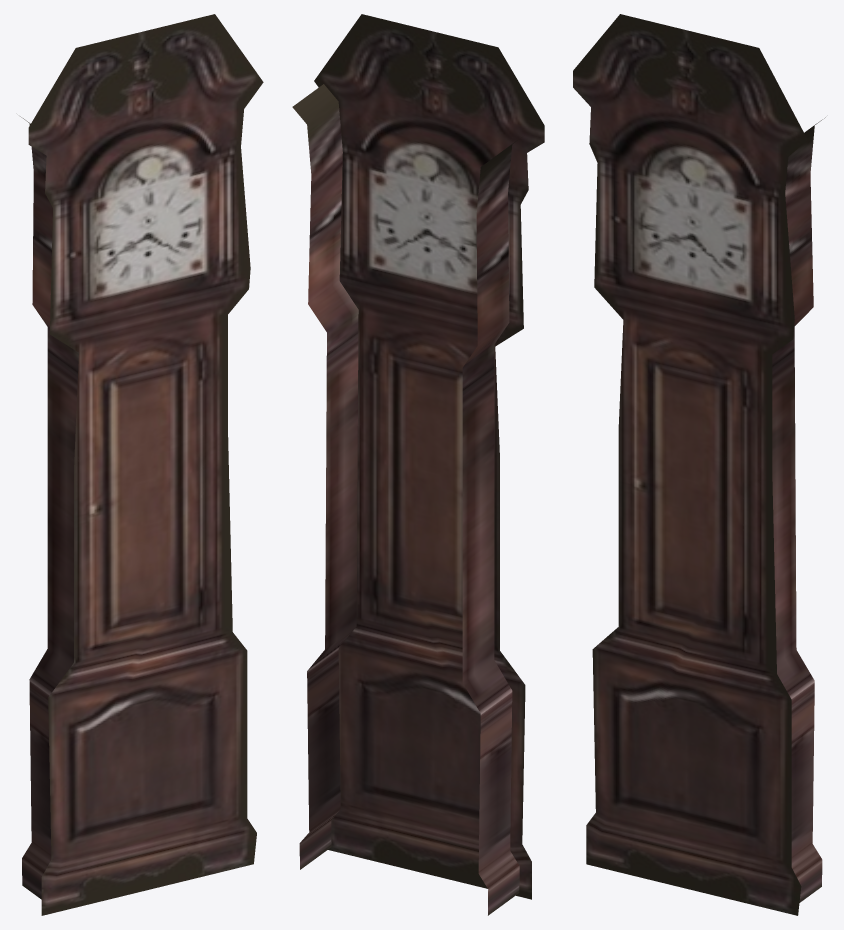
The model's file is clock_fancy_tall.fbx.
The picture shows the model from 3 angles, left to right: view 1: azimuth 30°, elevation 25°; view 2: azimuth 150°, elevation 25°; view 3: azimuth 330°, elevation 25°; orthographic projection.
Parts seen in each view (by area): view 1: clock_fancy_tall; view 2: clock_fancy_tall; view 3: clock_fancy_tall.
Part boxes in pixels (x1,y1,x2,y2): clock_fancy_tall: (20,14,263,915); clock_fancy_tall: (292,14,544,915); clock_fancy_tall: (573,14,825,915).
Size of the model in its own units: 318 by 1113 by 75.44.
Materials: 1 (1 with a texture image).
